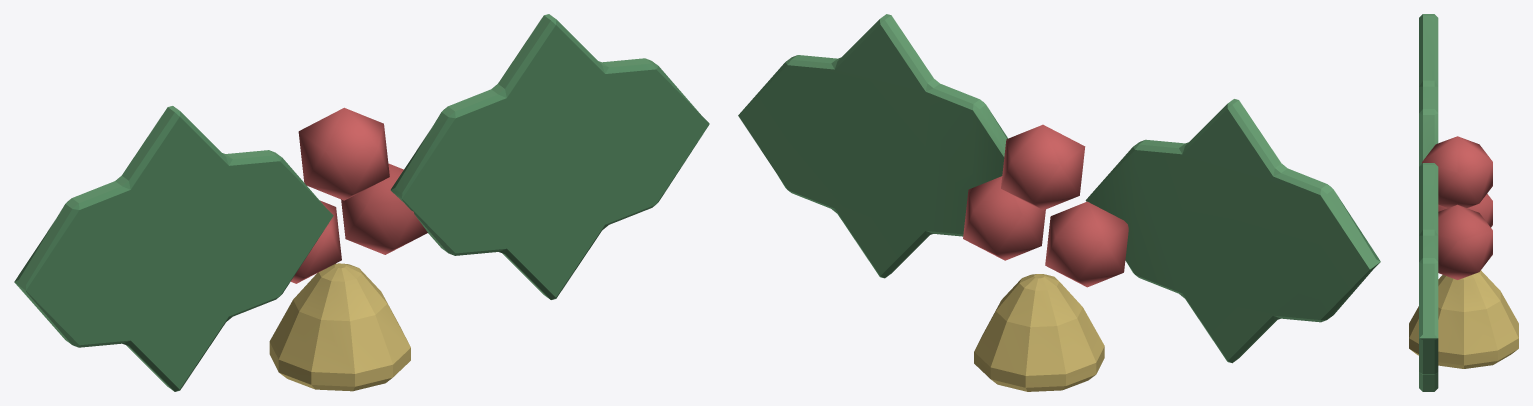
The model's file is resident_holly.glb.
3 renders of one model, left to right at view 1: azimuth 30°, elevation 25°; view 2: azimuth 150°, elevation 25°; view 3: azimuth 270°, elevation 25°, orthographic. The views are drawn at different scales.
Size of the model in its own units: 1 by 0.4454 by 0.1712.
